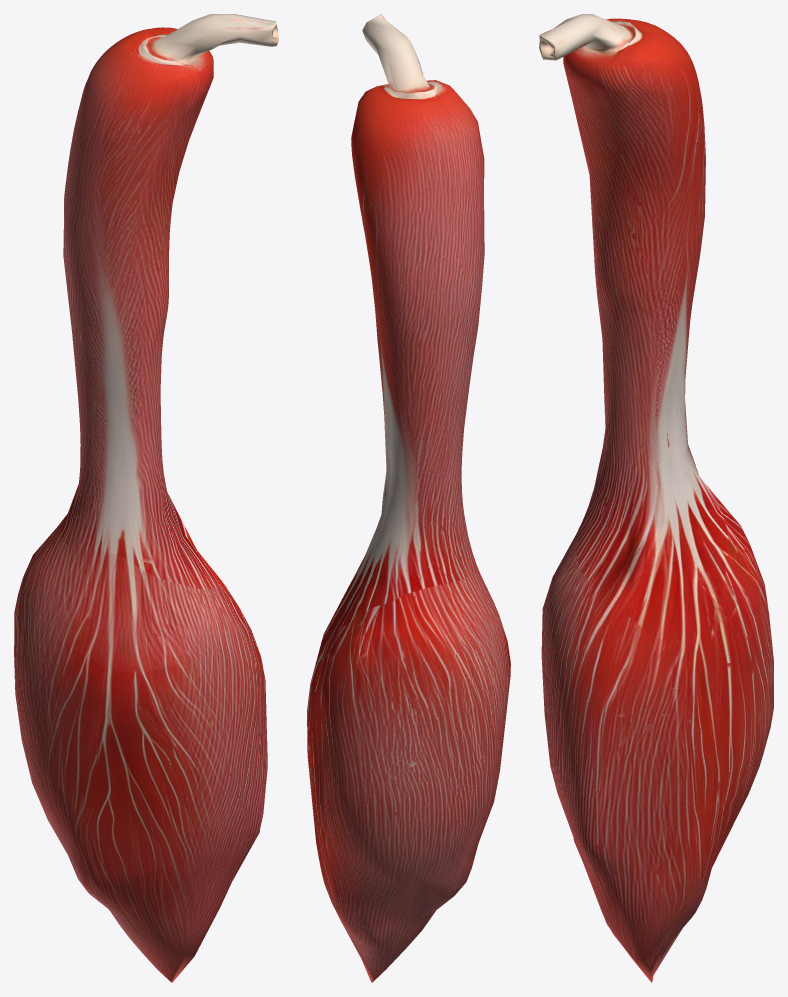
The model's file is interosseous.glb.
3 views of the same model, side by side, from view 1: azimuth 30°, elevation 25°; view 2: azimuth 150°, elevation 25°; view 3: azimuth 270°, elevation 25° (orthographic). The views are drawn at different scales.
Parts seen in each view (by area): view 1: interosseous; view 2: interosseous; view 3: interosseous.
Part boxes in pixels (x1=…): interosseous: x1=14, y1=14, x2=278, y2=982; interosseous: x1=307, y1=14, x2=510, y2=982; interosseous: x1=539, y1=14, x2=773, y2=982.
Size of the model in its own units: 0.218 by 1 by 0.219.
Materials: 1 (1 with a texture image).
